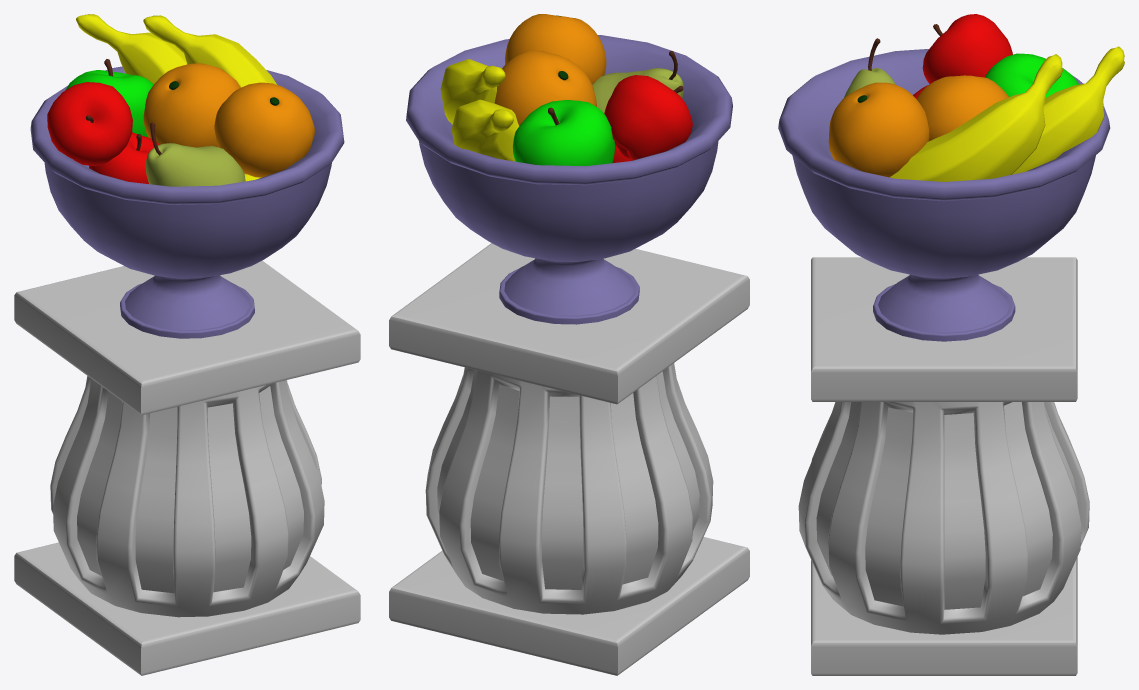
Rendered from FruitBowl.fbx.
The picture shows the model from 3 angles, left to right: view 1: azimuth 30°, elevation 25°; view 2: azimuth 150°, elevation 25°; view 3: azimuth 270°, elevation 25°; orthographic projection. The views are drawn at different scales.
Visible parts, largest first — view 1: pCube5, pSphere5, pSphere6, pSphere4, polySurface5, polySurface3, pCube1, pCube2, polySurface4, polySurface1; view 2: pCube5, pSphere5, polySurface4, polySurface5, pSphere4, pSphere6, pCube2, pCube1, polySurface3; view 3: pCube5, pSphere5, pCube1, pSphere6, pCube2, polySurface5, pSphere4, polySurface4, polySurface3.
Boxes of the visible parts, box(x1,y1,x2,y2) form: pCube5: box(14, 260, 360, 675); pSphere5: box(30, 66, 344, 338); pSphere6: box(214, 82, 314, 177); pSphere4: box(143, 63, 240, 147); polySurface5: box(47, 82, 132, 166); polySurface3: box(145, 122, 245, 186); pCube1: box(143, 15, 276, 181); pCube2: box(76, 14, 186, 84); polySurface4: box(66, 59, 153, 137); polySurface1: box(89, 132, 159, 183); pCube5: box(389, 243, 749, 675); pSphere5: box(406, 35, 732, 324); polySurface4: box(512, 100, 614, 166); polySurface5: box(604, 75, 692, 160); pSphere4: box(494, 50, 596, 125); pSphere6: box(505, 14, 606, 84); pCube2: box(451, 99, 519, 161); pCube1: box(440, 59, 505, 124); polySurface3: box(592, 51, 684, 113); pCube5: box(798, 257, 1089, 675); pSphere5: box(778, 49, 1110, 341); pCube1: box(890, 54, 1062, 181); pSphere6: box(828, 82, 929, 177); pCube2: box(1012, 46, 1124, 174); polySurface5: box(922, 14, 1012, 83); pSphere4: box(917, 75, 1008, 141); polySurface4: box(985, 53, 1078, 97); polySurface3: box(844, 38, 895, 97).
Bounding box in the file's own units: 28.11 × 53.68 × 29.34.
